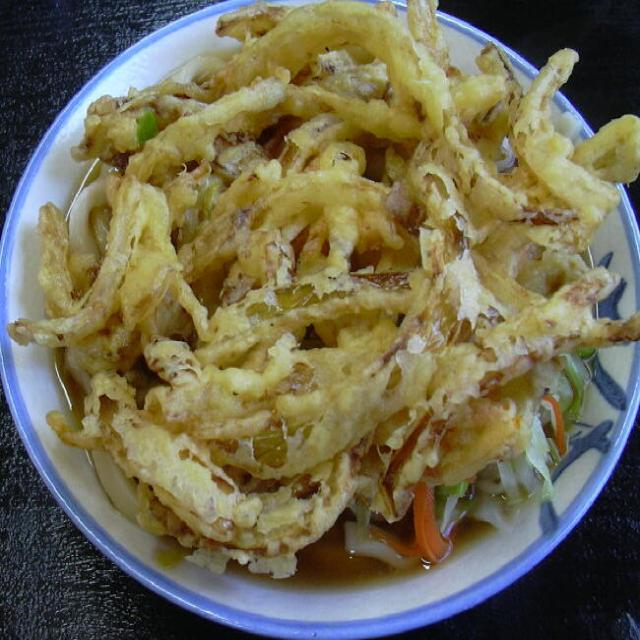面条主食: (15, 0, 632, 598)
